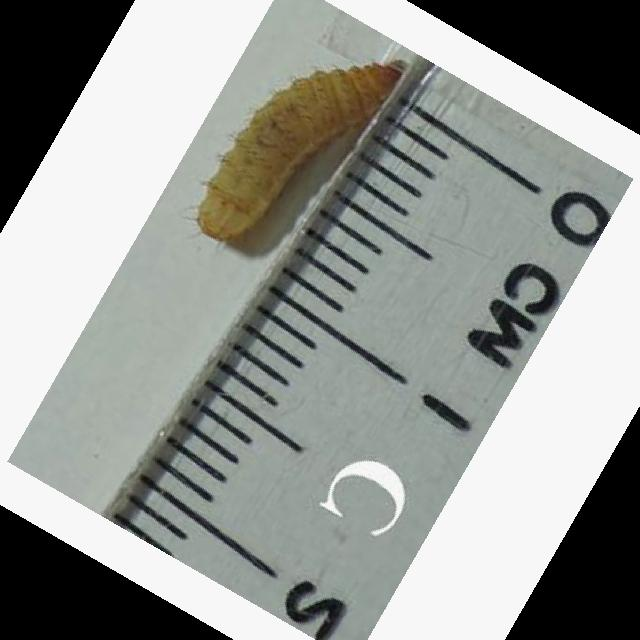Maggot: (188, 57, 408, 247)
